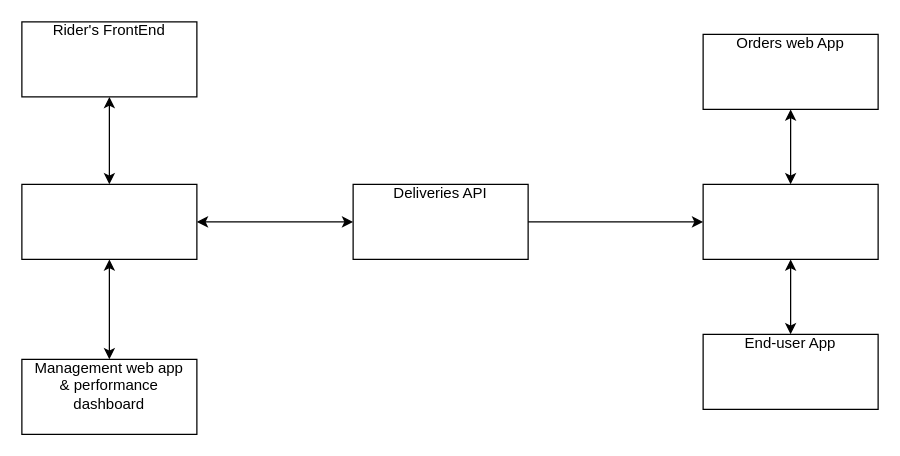
Some shapes in this 900 by 456 pixel diagram are drawn without their labels. Here are the shapes that lost their labels. From the top down, the box of each, then its label:
(21, 183, 197, 259): Proximity deliveries Platform
(702, 183, 878, 259): Service Cosumers
